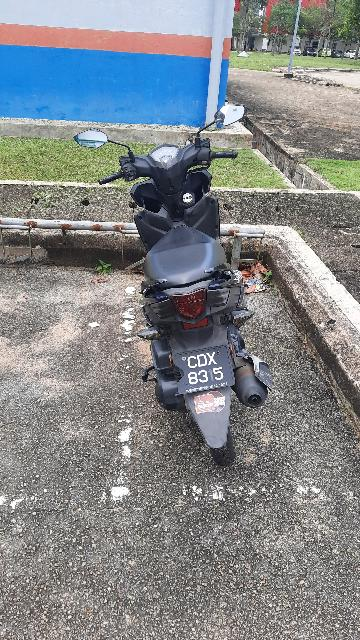License_Plate: (170, 344, 252, 396)
motorcycle: (98, 124, 281, 473)
